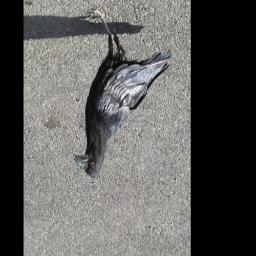Crow: (73, 9, 173, 181)
